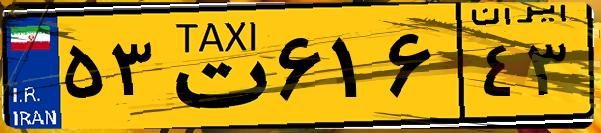1: (330, 28, 385, 110)
3: (525, 38, 570, 115), (110, 28, 158, 98)
4: (475, 38, 525, 113)
5: (57, 26, 110, 100)
6: (270, 28, 330, 110), (385, 28, 445, 110)
ت: (158, 12, 270, 120)
